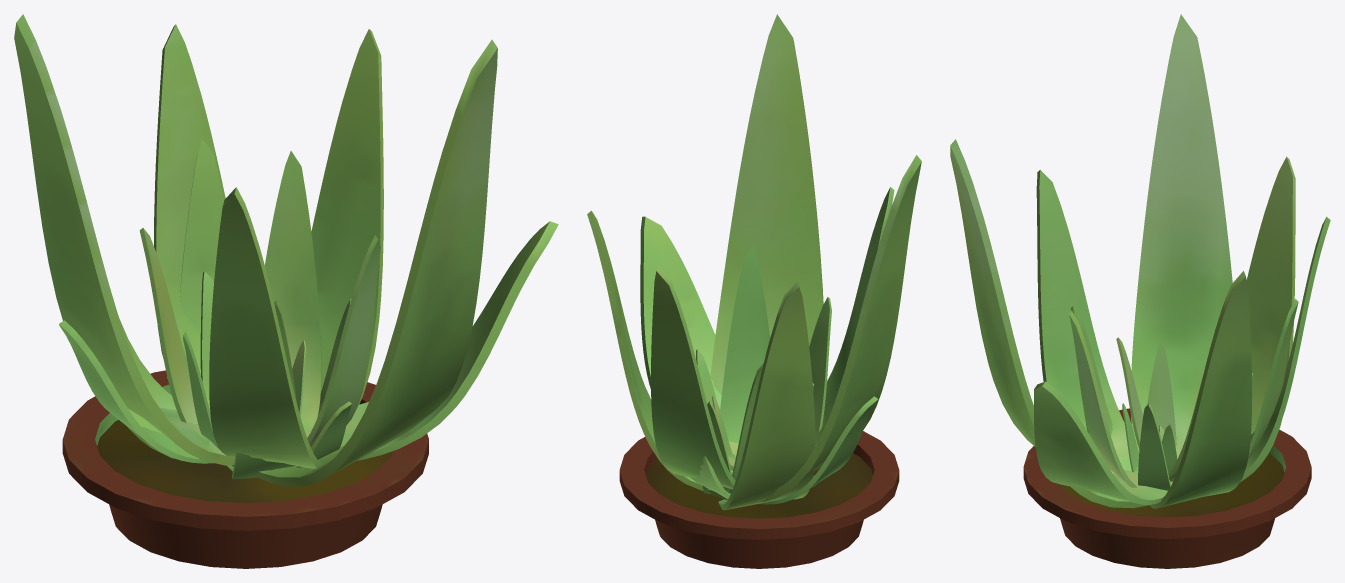
The model's file is Aloe_lvl_3_textured(1).glb.
3 renders of one model, left to right at view 1: azimuth 30°, elevation 25°; view 2: azimuth 150°, elevation 25°; view 3: azimuth 270°, elevation 25°, orthographic. The views are drawn at different scales.
Visible parts, largest first — view 1: Aloe_lvl_3; view 2: Aloe_lvl_3; view 3: Aloe_lvl_3.
Part boxes in pixels (x1,y1,x2,y2): Aloe_lvl_3: (14, 14, 558, 568); Aloe_lvl_3: (587, 14, 921, 568); Aloe_lvl_3: (950, 14, 1330, 568).
Bounding box in the file's own units: 1.9 × 2.17 × 1.75.
Materials: 1 (1 with a texture image).
